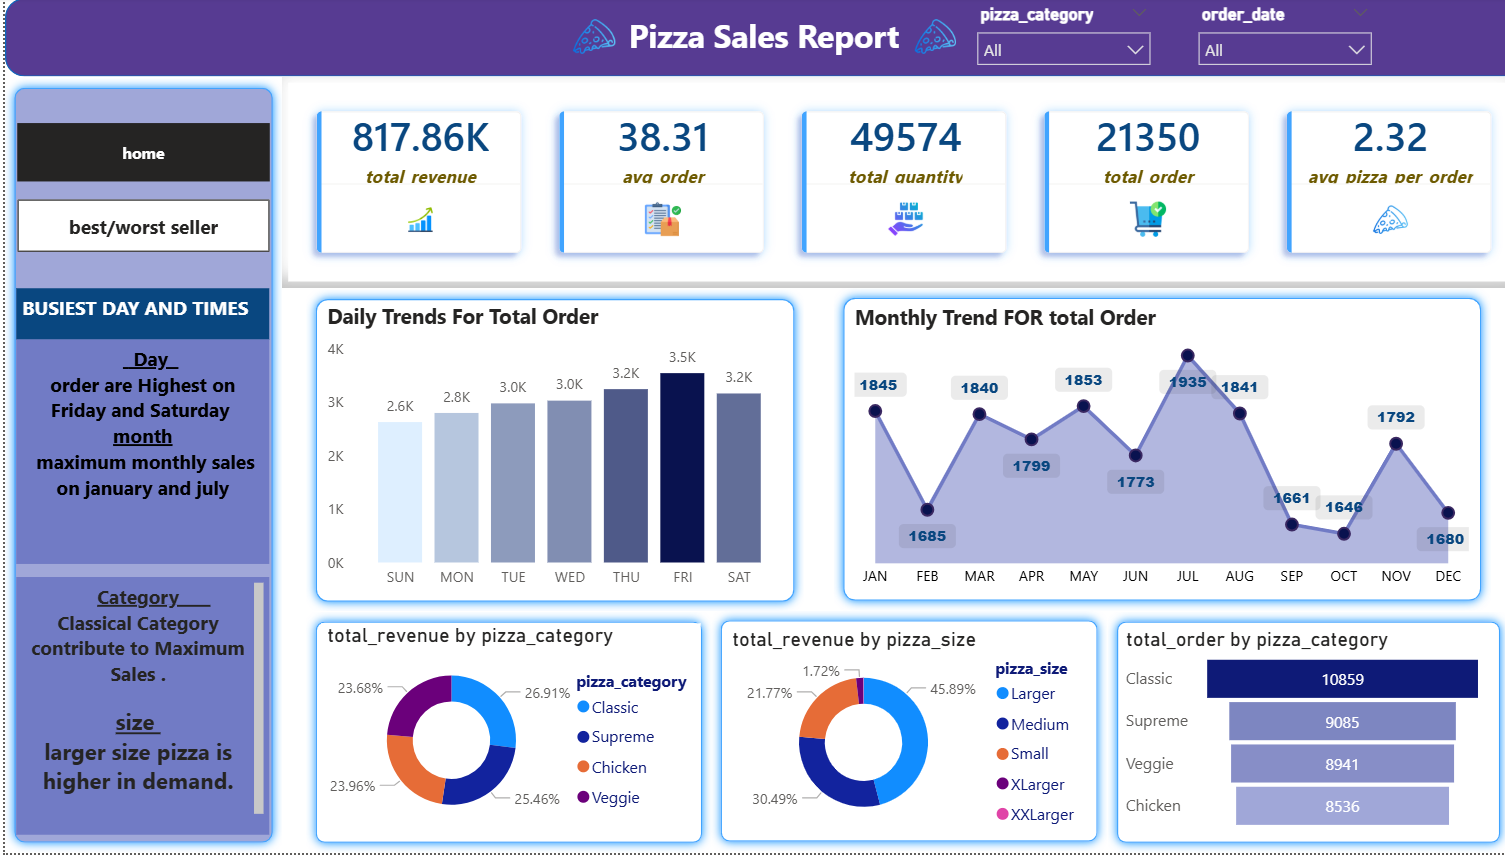

The dashboard page shown, as its layout file describes it:
{"tool":"powerbi","page":{"name":"home","canvas":[1280,720],"ordinal":0},"visuals":[{"type":"cardVisual","fields":{"Data":["pizza_sales.total_revenue","pizza_sales.avg_order","pizza_sales.total_quantity","pizza_sales.total_order","pizza_sales.avg_pizza_per_order"]},"box":[232.9,67.3,1046,177.7],"z":0},{"type":"shape","box":[0,1.3,1280.3,65.9],"z":1000},{"type":"textbox","box":[494.9,9.4,286.4,48.4],"z":2000},{"type":"image","box":[472.5,13.5,47.1,39],"z":3000},{"type":"image","box":[756.6,13.5,51.2,39],"z":4000},{"type":"shape","box":[253.1,246.4,418.7,270.6],"z":5000},{"type":"columnChart","title":"Daily Trends For Total Order","fields":{"Category":["pizza_sales.order_day"],"Y":["pizza_sales.total_order"]},"box":[265.5,256.1,394.9,249.3],"z":6000},{"type":"shape","box":[696.7,245.3,552.5,270.9],"z":7000},{"type":"areaChart","title":"Monthly Trend FOR total Order","fields":{"Y":["pizza_sales.total_order"],"Category":["pizza_sales.order_month"]},"box":[710.2,257.4,526.9,248],"z":8000},{"type":"shape","box":[253.4,517.5,341,202.1],"z":9000},{"type":"shape","box":[594.3,516.2,332.9,202.1],"z":10000},{"type":"shape","box":[927.2,517.5,338.3,202.1],"z":11000},{"type":"donutChart","fields":{"Y":["pizza_sales.total_revenue"],"Category":["pizza_sales.pizza_category"]},"box":[265.5,526.9,319.4,177.9],"z":12000},{"type":"donutChart","fields":{"Y":["pizza_sales.total_revenue"],"Category":["pizza_sales.pizza_size"]},"box":[606.4,529.6,311.3,175.2],"z":13000},{"type":"shape","box":[0,68.7,233.1,650.9],"z":14000},{"type":"funnel","fields":{"Category":["pizza_sales.pizza_category"],"Y":["pizza_sales.total_order"]},"box":[938,529.6,311.3,175.2],"z":15000},{"type":"textbox","box":[9.4,245.3,212.9,43.1],"z":16000},{"type":"textbox","box":[9.4,487.9,212.9,217],"z":17000},{"type":"textbox","box":[9.4,288.4,212.9,188.7],"z":18000},{"type":"slicer","fields":{"Values":["pizza_sales.pizza_category"]},"box":[807.2,1.3,165.8,72.8],"z":19000},{"type":"slicer","fields":{"Values":["pizza_sales.order_date"]},"box":[993.2,1.3,165.8,72.8],"z":20000},{"type":"pageNavigator","box":[10.8,106.5,212.9,49.9],"z":21000},{"type":"pageNavigator","box":[10.8,169.8,212.9,44.5],"z":22000}]}

Visuals, with their boxes in screenshot pixels (x1, y1, x2, y2), scaled from the page's 1280x720 canvas onto the 1505x857 screenshot:
cardVisual - pizza_sales.total_revenue x pizza_sales.avg_order: box=[274, 80, 1504, 292]
shape: box=[0, 2, 1504, 80]
textbox: box=[582, 11, 919, 69]
image: box=[556, 16, 611, 62]
image: box=[890, 16, 950, 62]
shape: box=[298, 293, 790, 615]
"Daily Trends For Total Order" columnChart: box=[312, 305, 776, 602]
shape: box=[819, 292, 1469, 614]
"Monthly Trend FOR total Order" areaChart: box=[835, 306, 1455, 602]
shape: box=[298, 616, 699, 856]
shape: box=[699, 614, 1090, 855]
shape: box=[1090, 616, 1488, 856]
donutChart - pizza_sales.total_revenue x pizza_sales.pizza_category: box=[312, 627, 688, 839]
donutChart - pizza_sales.total_revenue x pizza_sales.pizza_size: box=[713, 630, 1079, 839]
shape: box=[0, 82, 274, 856]
funnel - pizza_sales.pizza_category x pizza_sales.total_order: box=[1103, 630, 1469, 839]
textbox: box=[11, 292, 261, 343]
textbox: box=[11, 581, 261, 839]
textbox: box=[11, 343, 261, 568]
slicer - pizza_sales.pizza_category: box=[949, 2, 1144, 88]
slicer - pizza_sales.order_date: box=[1168, 2, 1363, 88]
pageNavigator: box=[13, 127, 263, 186]
pageNavigator: box=[13, 202, 263, 255]
